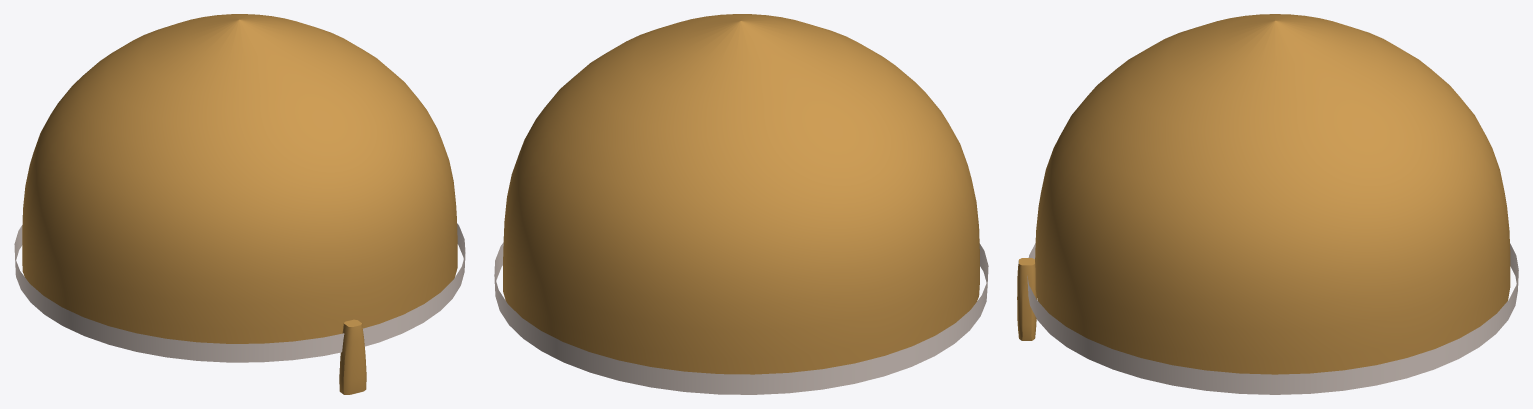
The model's file is helm_iron.glb.
The picture shows the model from 3 angles, left to right: view 1: azimuth 30°, elevation 25°; view 2: azimuth 150°, elevation 25°; view 3: azimuth 270°, elevation 25°; orthographic projection. The views are drawn at different scales.
Visible parts, largest first — view 1: helm_iron; view 2: helm_iron; view 3: helm_iron.
Boxes of the visible parts, bbox=[...] form: helm_iron: bbox=[14, 14, 465, 394]; helm_iron: bbox=[494, 14, 988, 394]; helm_iron: bbox=[1017, 14, 1518, 394].
Size of the model in its own units: 0.7317 by 0.514 by 0.7434.
